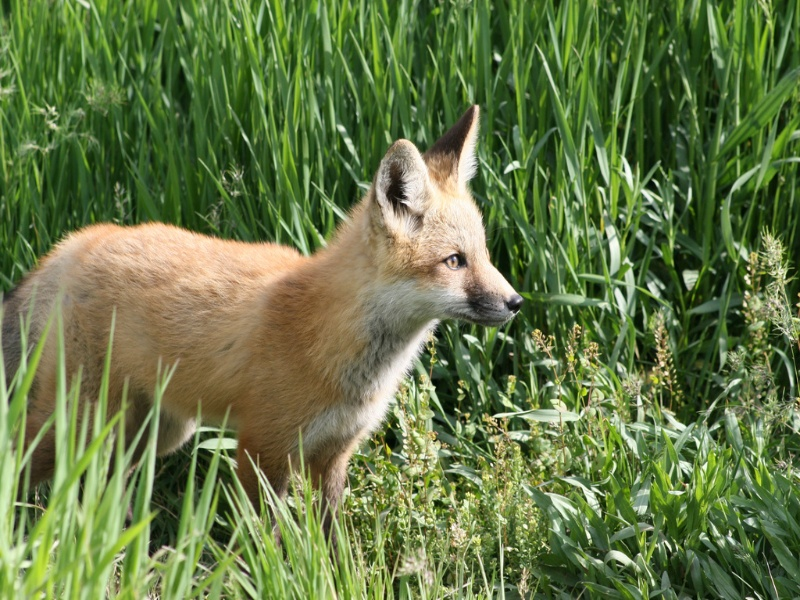fox: (1, 97, 525, 592)
